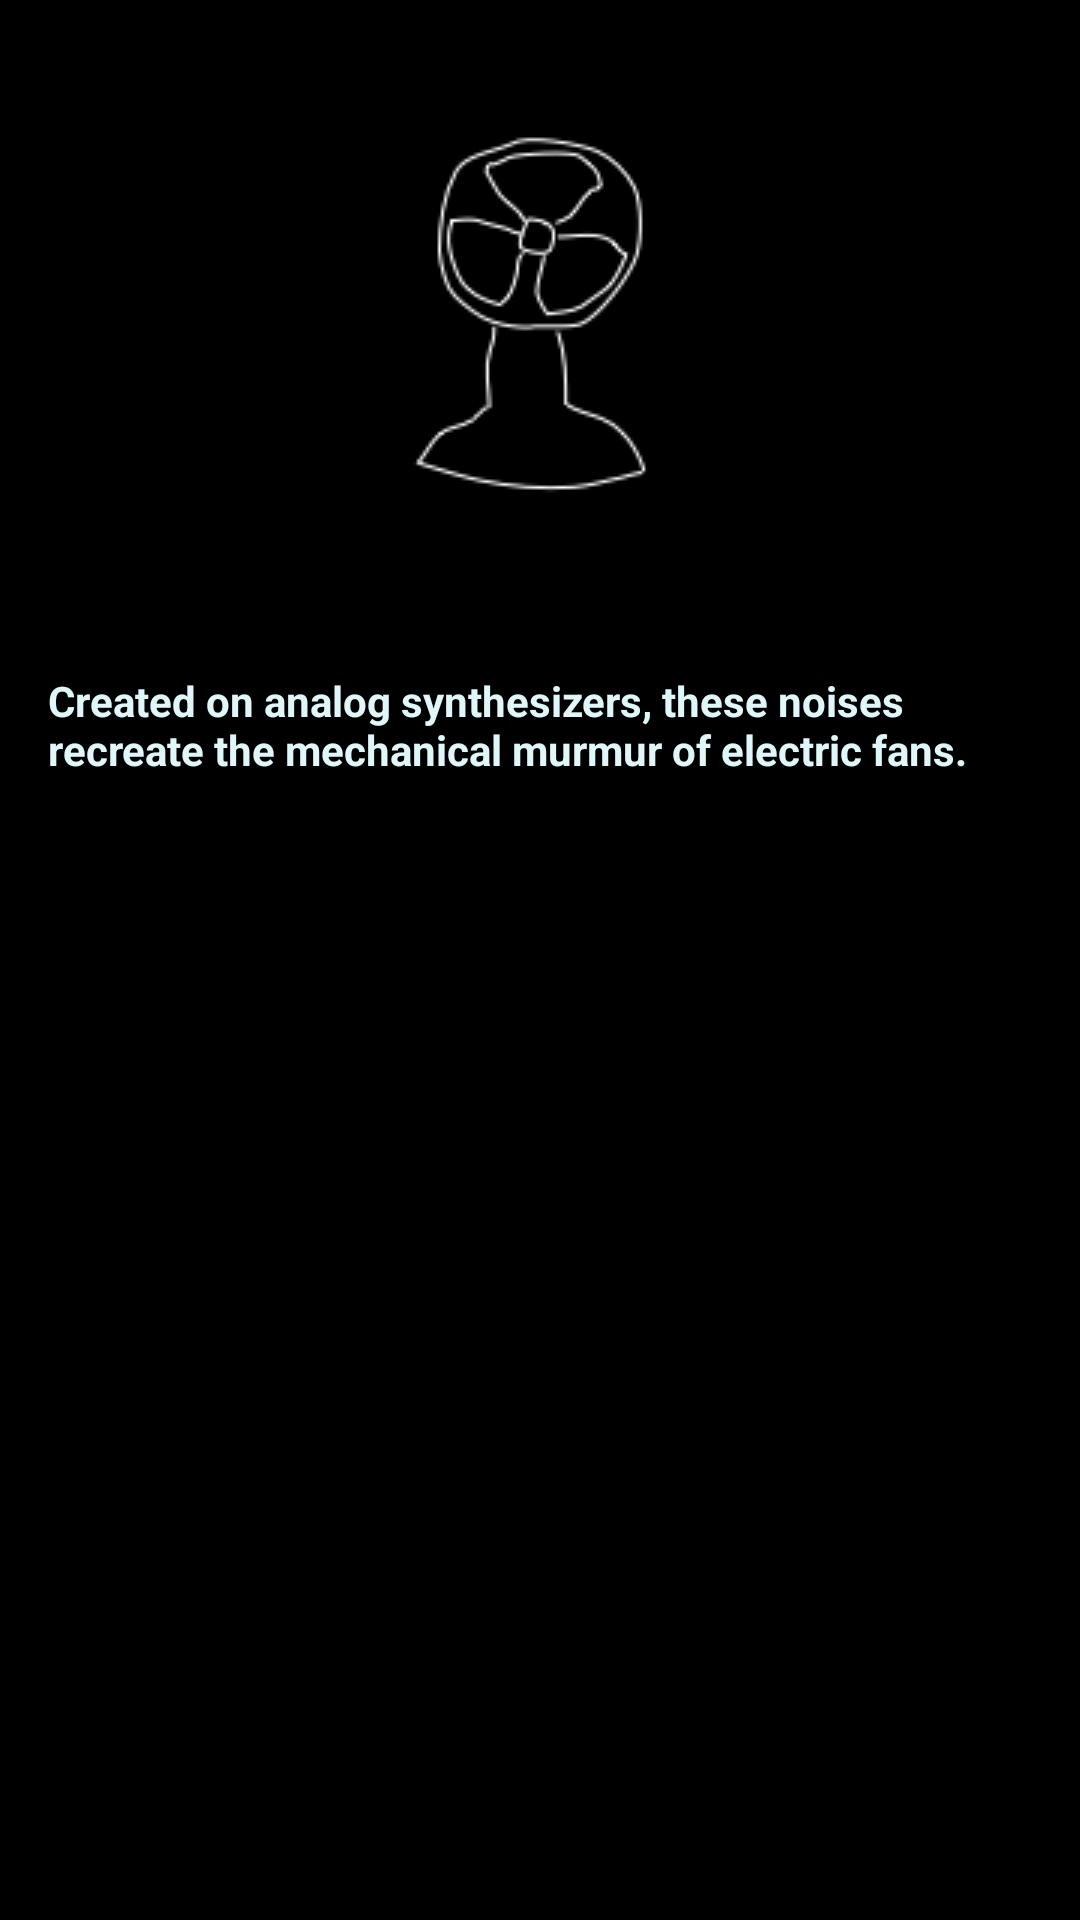

Named icons in this screenshot (1080px×1920px) and their bounding boxes, [left=x1, top=y1, right=x2, bottom=y2]:
fanicon: [left=415, top=137, right=646, bottom=491]
